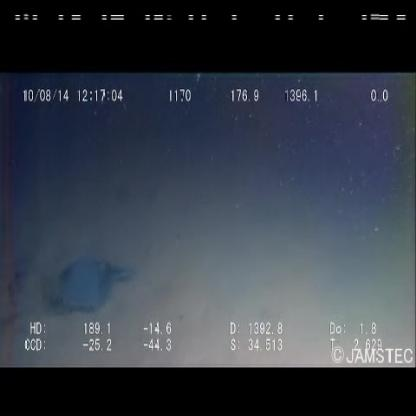Rác: (54, 252, 138, 319)
